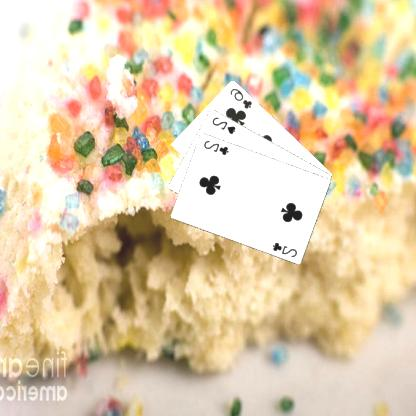2C: (202, 138, 232, 156), (271, 240, 300, 258)
2S: (211, 114, 239, 136)
6C: (229, 85, 255, 110)
